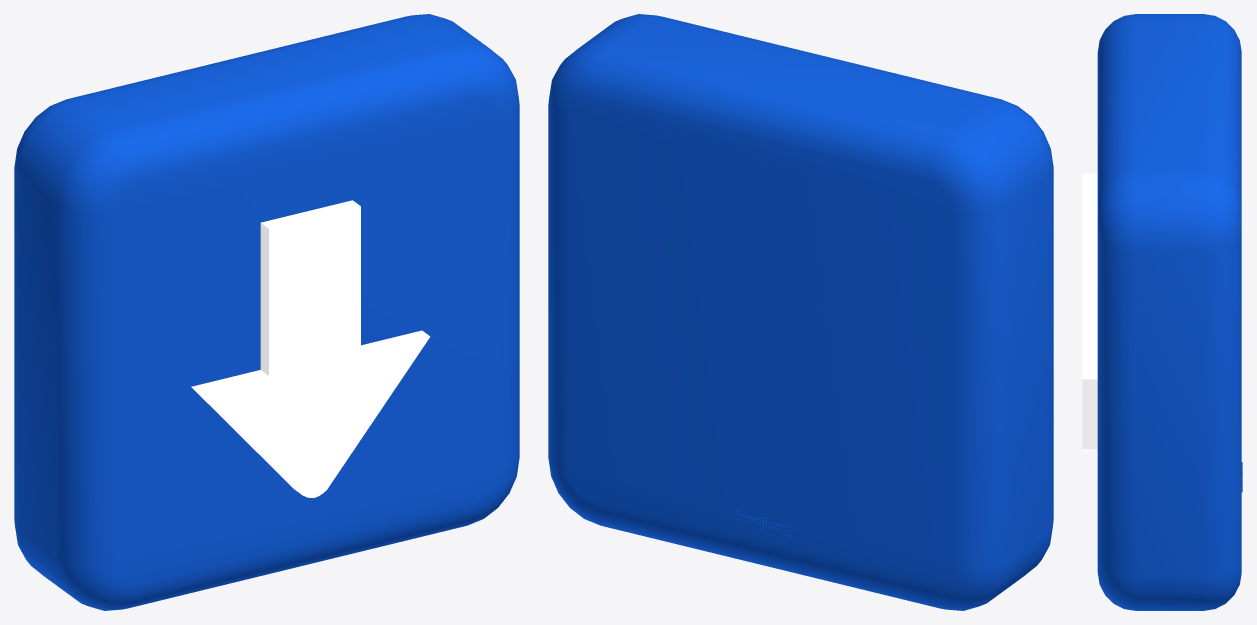
The model's file is down_arrow.glb.
3 renders of one model, left to right at view 1: azimuth 30°, elevation 25°; view 2: azimuth 150°, elevation 25°; view 3: azimuth 270°, elevation 25°, orthographic. The views are drawn at different scales.
Parts seen in each view (by area): view 1: down_arrow; view 2: down_arrow; view 3: down_arrow.
Part boxes in pixels (x1,y1,x2,y2): down_arrow: (14,14,519,610); down_arrow: (548,14,1053,610); down_arrow: (1082,14,1242,610).
Size of the model in its own units: 2.2 by 2.2 by 0.7337.
1 material, 1 textured.
